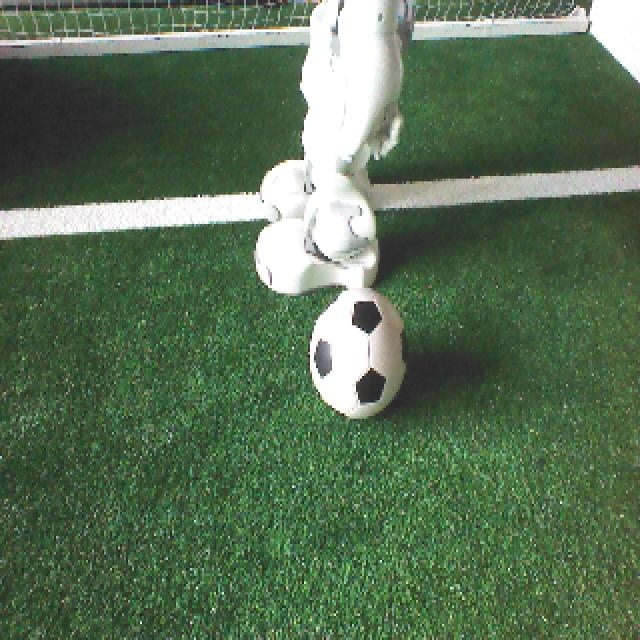ball: (308, 282, 408, 418)
